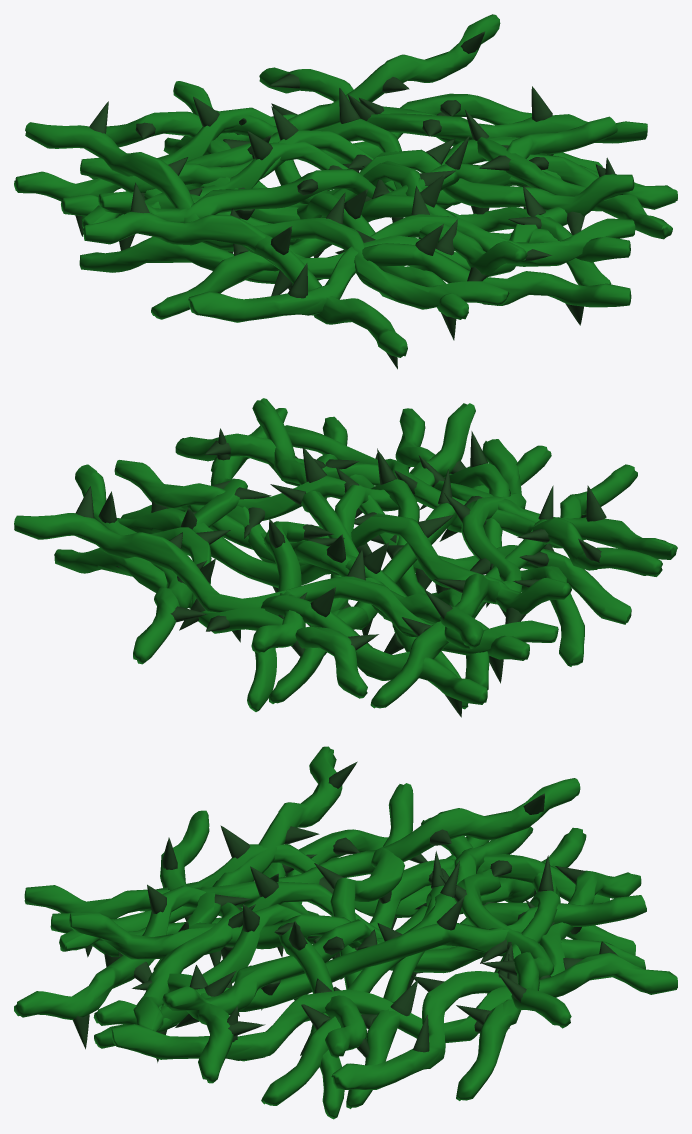
Rendered from Vine_Tile.fbx.
3 renders of one model, top to bottom at view 1: azimuth 30°, elevation 25°; view 2: azimuth 150°, elevation 25°; view 3: azimuth 270°, elevation 25°, orthographic. The views are drawn at different scales.
Visible parts, largest first — view 1: Vines, Thorns; view 2: Vines, Thorns; view 3: Vines, Thorns.
Part boxes in pixels (x1,y1,x2,y2): Vines: [14, 14, 677, 357]; Thorns: [75, 31, 616, 369]; Vines: [14, 398, 677, 711]; Thorns: [75, 428, 606, 717]; Vines: [14, 746, 677, 1119]; Thorns: [72, 761, 617, 1062].
Bounding box in the file's own units: 2135 × 468 × 2063.
